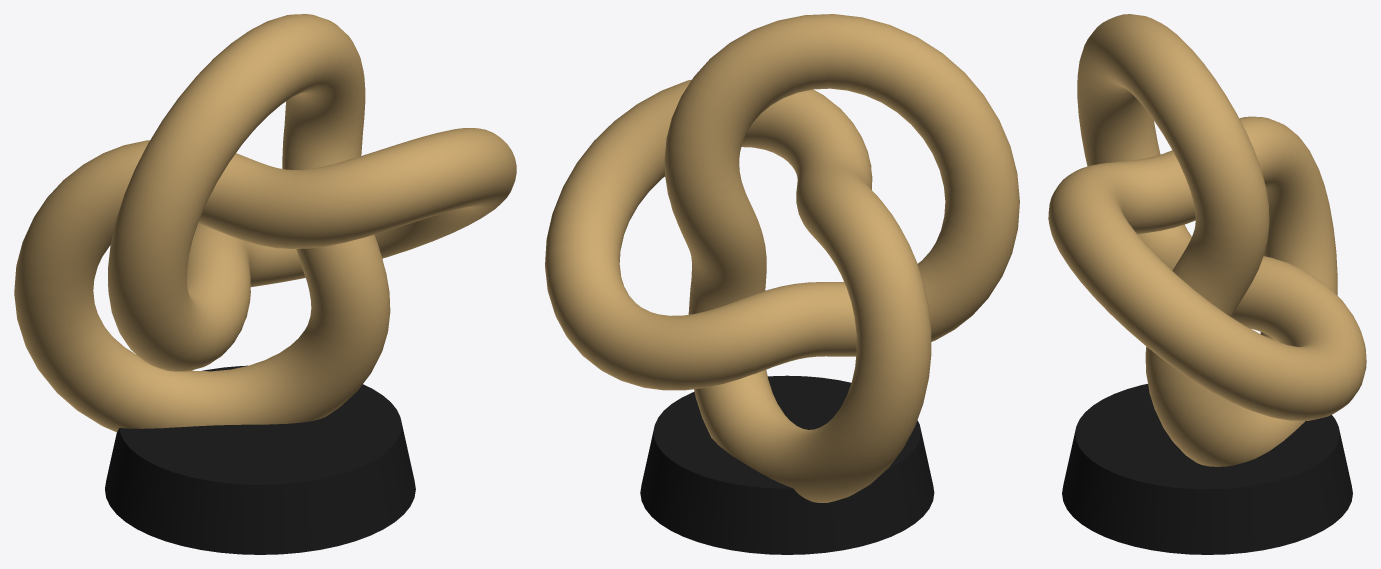
The model's file is sculptural-art.glb.
3 renders of one model, left to right at view 1: azimuth 30°, elevation 25°; view 2: azimuth 150°, elevation 25°; view 3: azimuth 270°, elevation 25°, orthographic. The views are drawn at different scales.
Bounding box in the file's own units: 1.75 × 1.9 × 1.2.
